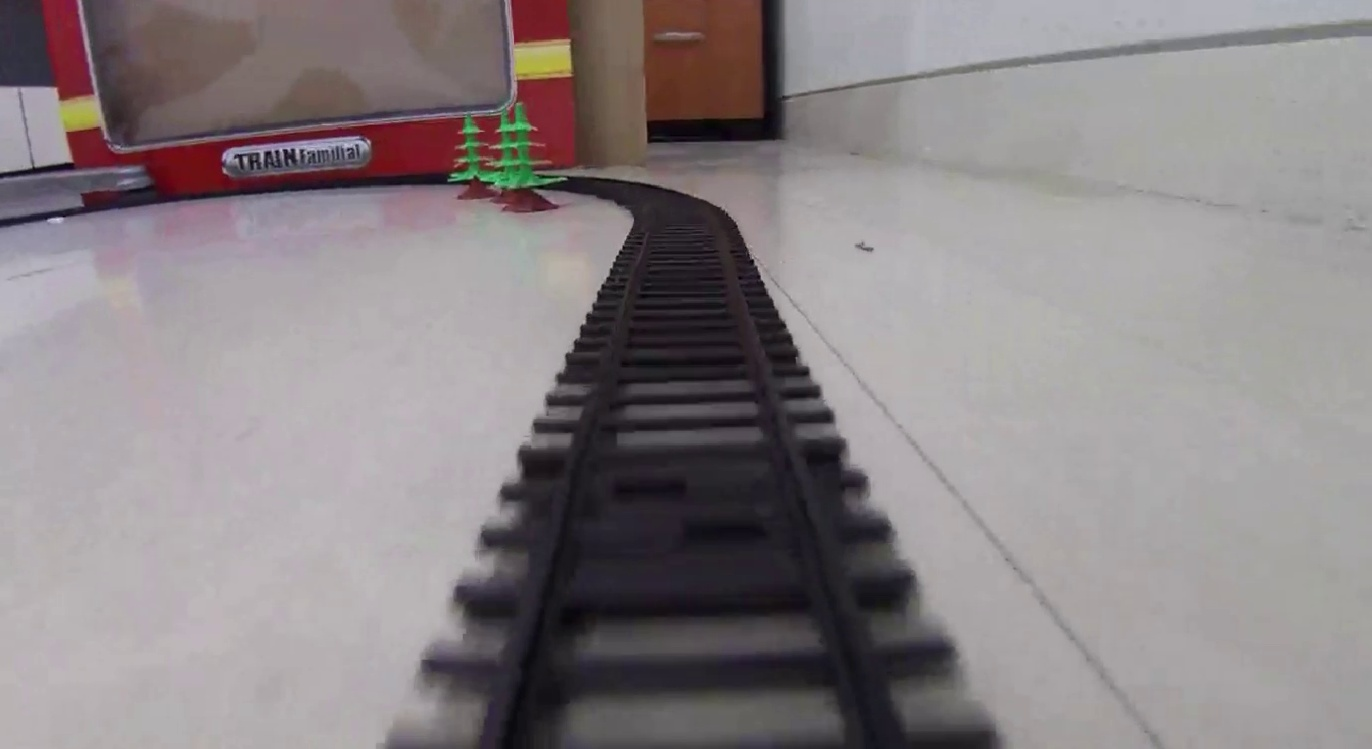tree: (495, 102, 559, 210), (459, 111, 494, 201)
